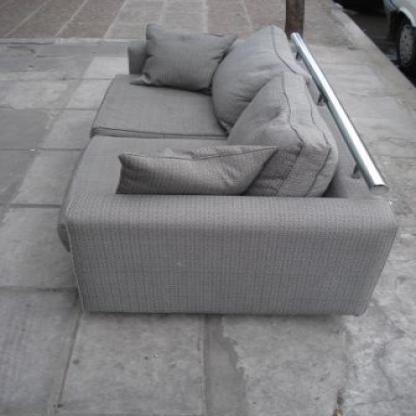sofa: (55, 24, 401, 318)
